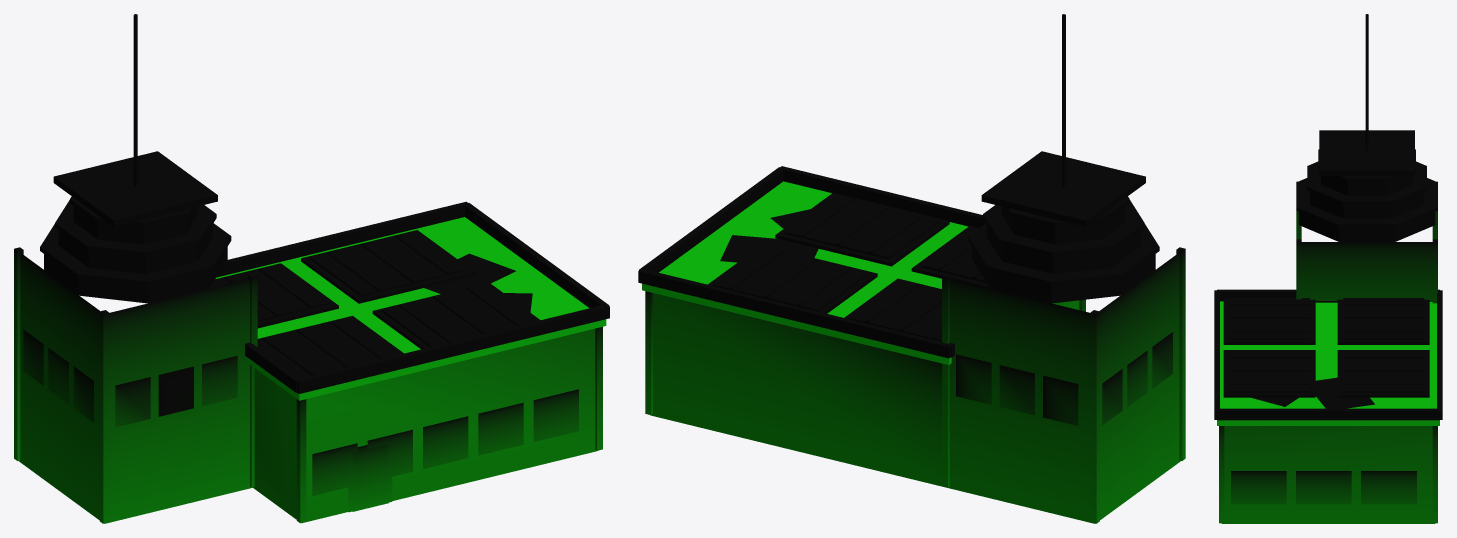
Rendered from s_gatecontrol.glb.
3 views of the same model, side by side, from view 1: azimuth 30°, elevation 25°; view 2: azimuth 150°, elevation 25°; view 3: azimuth 270°, elevation 25° (orthographic). The views are drawn at different scales.
Parts seen in each view (by area): view 1: lod0; view 2: lod0; view 3: lod0.
Boxes of the visible parts, <box> form: lod0: <box>14,14,609,523</box>; lod0: <box>638,14,1185,523</box>; lod0: <box>1214,14,1442,523</box>.
Size of what is drawn, in the model's own units: 22.75 by 21.9 by 12.4.
